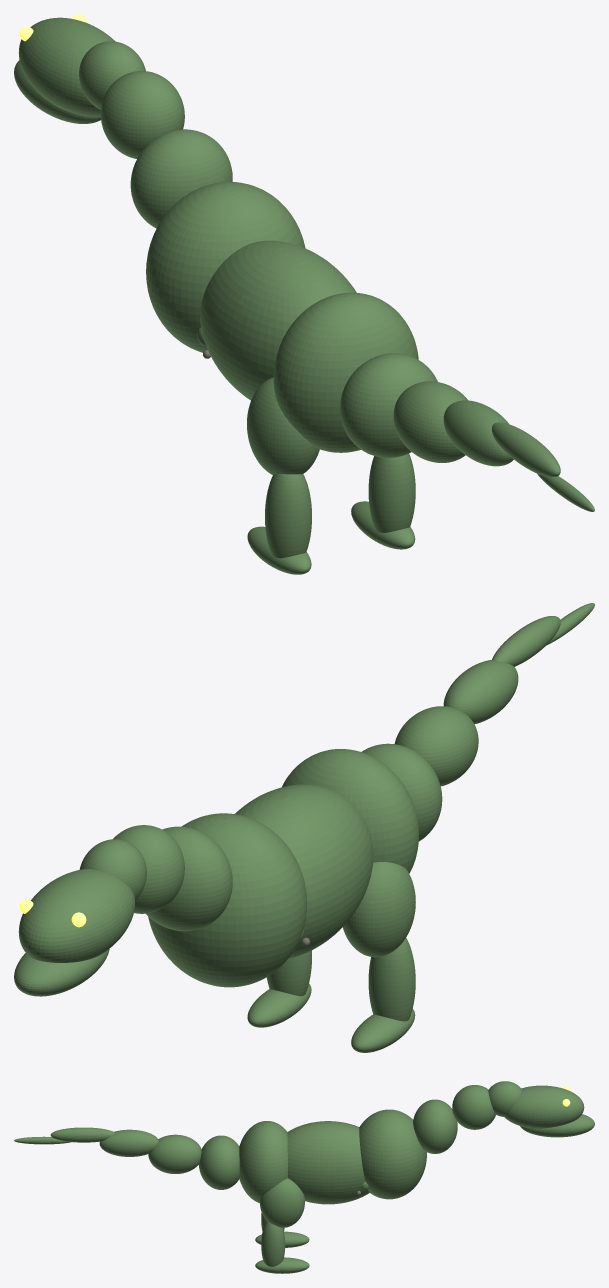
File: dinosaur.glb.fbx
3 views of the same model, one above another, from view 1: azimuth 30°, elevation 25°; view 2: azimuth 150°, elevation 25°; view 3: azimuth 270°, elevation 25° (orthographic). The views are drawn at different scales.
Parts seen in each view (by area): view 1: Torso, Hip, Chest, Neck1, Tail1, Head, Neck2, Tail2, R_Thigh, R_Shin, L_Shin, Tail3 (+6 smaller); view 2: Chest, Torso, Head, Hip, Neck1, R_Thigh, Tail2, Neck2, Tail3, Tail1, R_Shin, LowerJaw (+6 smaller); view 3: Torso, Chest, Hip, Head, Neck1, Tail1, Tail2, L_Thigh, Neck2, Tail3, L_Shin, Neck3 (+5 smaller).
Boxes of the visible parts, x1,y1,x2,y2 form: Torso: [200, 240, 356, 400]; Hip: [273, 292, 418, 452]; Chest: [146, 182, 305, 352]; Neck1: [130, 129, 232, 228]; Tail1: [340, 353, 437, 457]; Head: [18, 17, 115, 116]; Neck2: [100, 71, 184, 158]; Tail2: [393, 381, 468, 462]; R_Thigh: [247, 377, 319, 474]; R_Shin: [265, 474, 311, 558]; L_Shin: [368, 453, 415, 532]; Tail3: [443, 400, 513, 466]; Chest: [148, 813, 307, 987]; Torso: [235, 784, 373, 958]; Head: [18, 869, 135, 962]; Hip: [282, 749, 418, 873]; Neck1: [146, 826, 232, 931]; R_Thigh: [342, 862, 415, 957]; Tail2: [394, 706, 478, 786]; Neck2: [113, 825, 184, 913]; Tail3: [443, 660, 518, 724]; Tail1: [362, 743, 442, 841]; R_Shin: [368, 938, 415, 1021]; LowerJaw: [14, 949, 109, 996]; Torso: [287, 1121, 369, 1204]; Chest: [359, 1109, 426, 1199]; Hip: [239, 1121, 287, 1203]; Head: [504, 1085, 584, 1128]; Neck1: [413, 1099, 457, 1153]; Tail1: [198, 1135, 239, 1189]; Tail2: [148, 1134, 201, 1173]; L_Thigh: [259, 1178, 304, 1227]; Neck2: [452, 1085, 495, 1129]; Tail3: [99, 1129, 158, 1156]; L_Shin: [261, 1221, 285, 1266]; Neck3: [488, 1081, 521, 1116].
Bounding box in the file's own units: 2.98 × 6.4 × 19.02.
